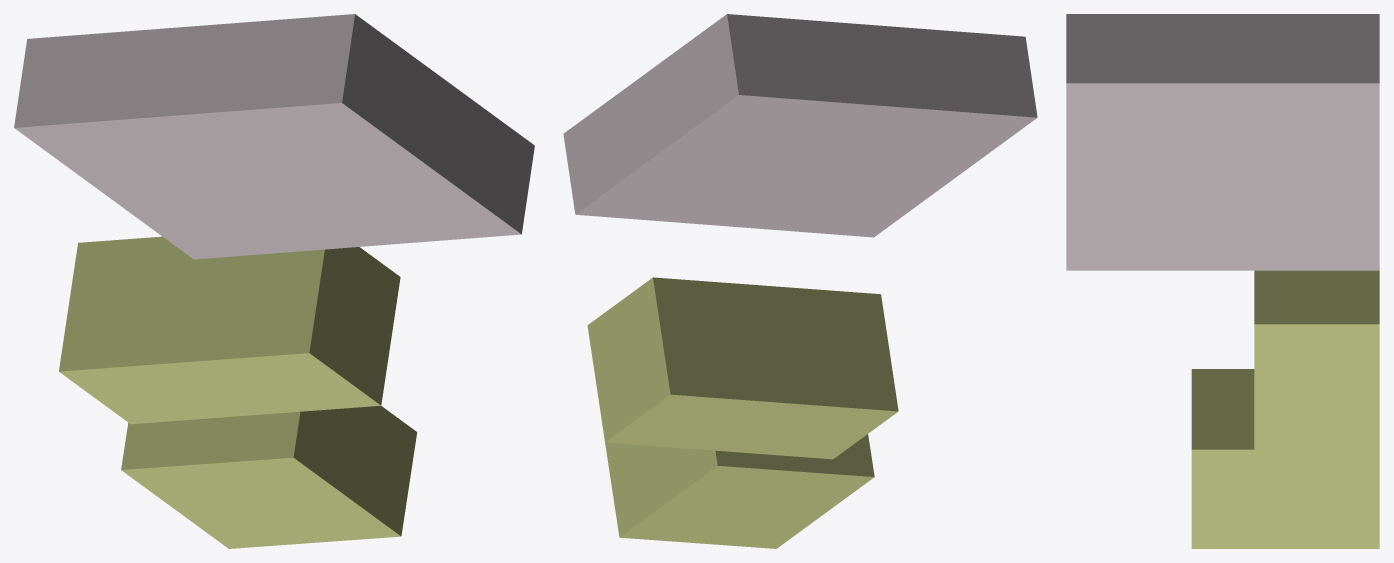
3 renders of one model, left to right at view 1: azimuth 30°, elevation 25°; view 2: azimuth 150°, elevation 25°; view 3: azimuth 270°, elevation 25°, orthographic. The views are drawn at different scales.
Parts seen in each view (by area): view 1: 0_3_2_2_3_0_0_0_0_2; view 2: 0_3_2_2_3_0_0_0_0_2; view 3: 0_3_2_2_3_0_0_0_0_2.
Boxes of the visible parts, x1,y1,x2,y2 form: 0_3_2_2_3_0_0_0_0_2: (14, 14, 534, 548); 0_3_2_2_3_0_0_0_0_2: (563, 14, 1037, 548); 0_3_2_2_3_0_0_0_0_2: (1066, 14, 1379, 548).
Bounding box in the file's own units: 16.43 × 22.26 × 15.
